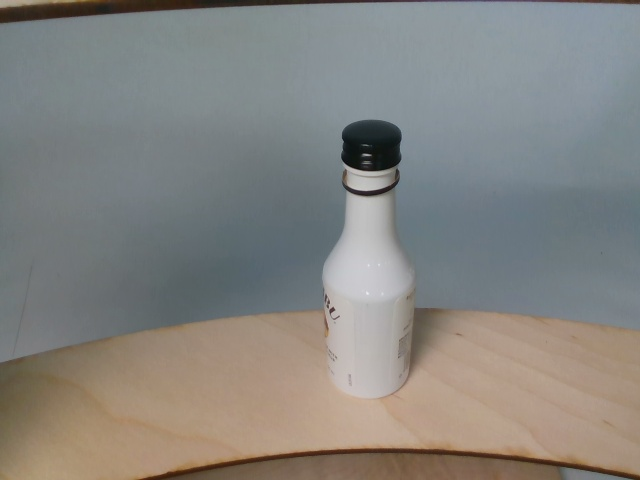tequila: (320, 119, 416, 400)
